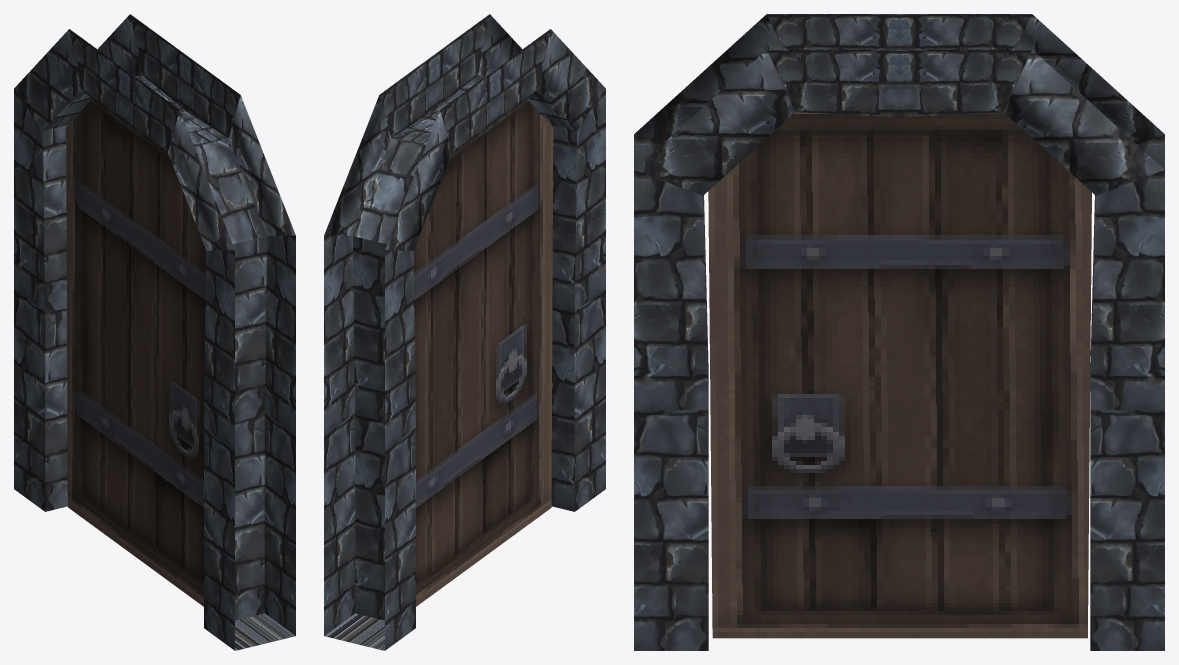
Rendered from DungeonTilesDoor.glb.
The picture shows the model from 3 angles, left to right: view 1: azimuth 30°, elevation 25°; view 2: azimuth 150°, elevation 25°; view 3: azimuth 270°, elevation 25°; orthographic projection. The views are drawn at different scales.
Parts seen in each view (by area): view 1: door, Cube.003; view 2: door, Cube.003; view 3: Cube.003, door.
Boxes of the visible parts, x1=… form: door: x1=14, y1=14, x2=295, y2=650; Cube.003: x1=66, y1=99, x2=206, y2=606; door: x1=324, y1=14, x2=605, y2=650; Cube.003: x1=413, y1=99, x2=553, y2=606; Cube.003: x1=708, y1=112, x2=1091, y2=638; door: x1=634, y1=14, x2=1164, y2=650.
Size of the model in its own units: 0.3176 by 2.5 by 2.
Materials: 2 (2 with a texture image).
